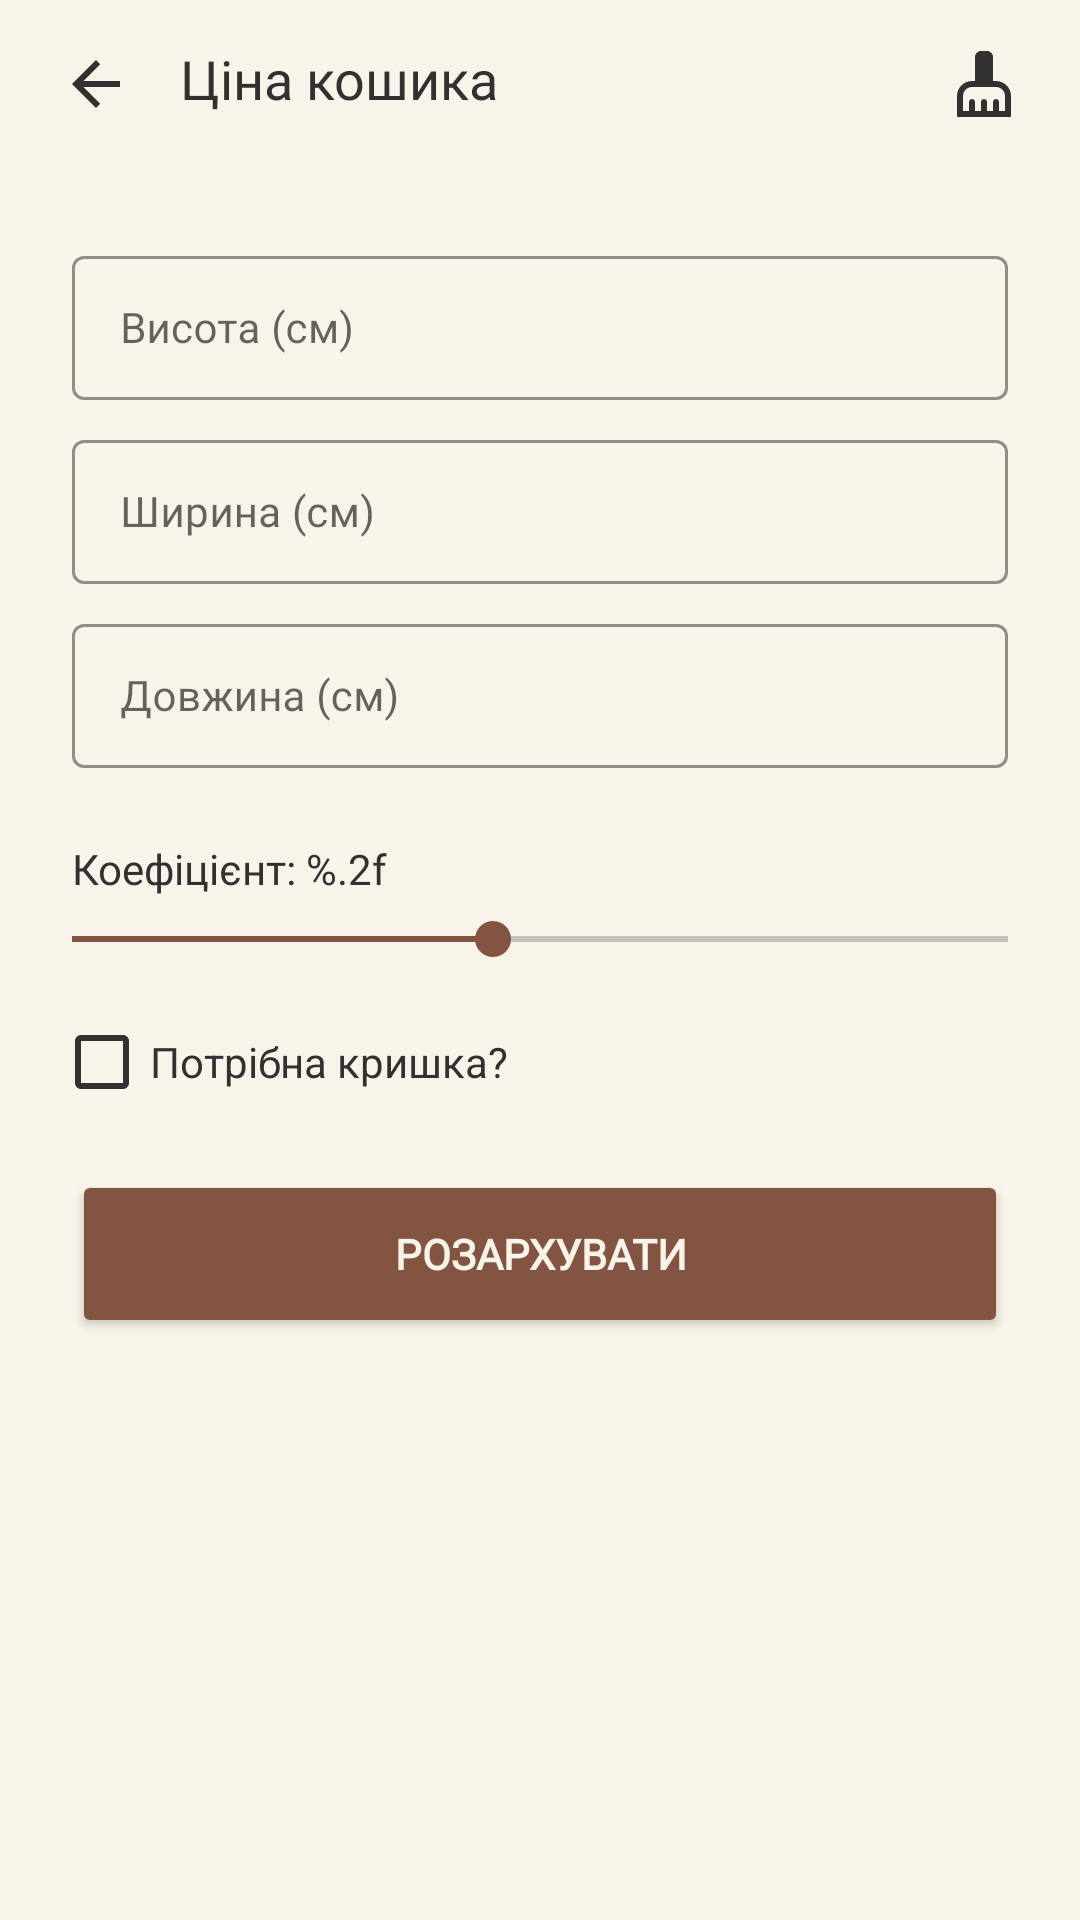

Icons on this 1080w x 1920h Android screen, each with the point to tap as (x,y):
Кнопка для очищення всіх значень: (984,84)
Кнопка повернутися назад: (96,84)
